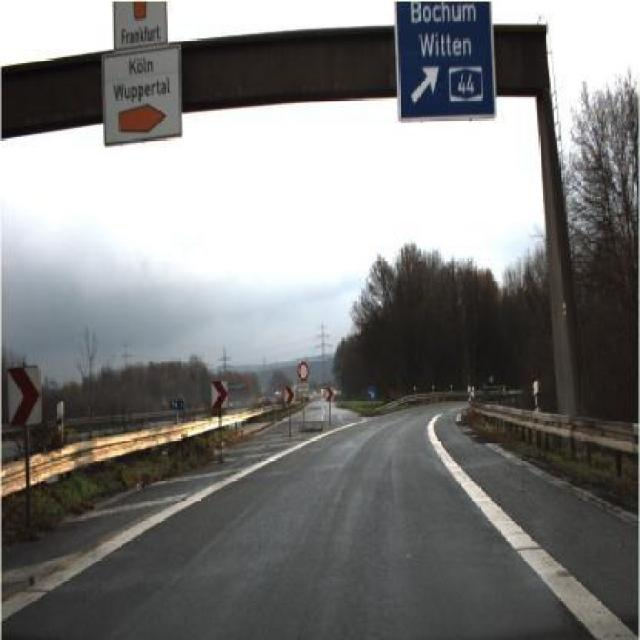traffic_sign: (364, 384, 378, 404)
